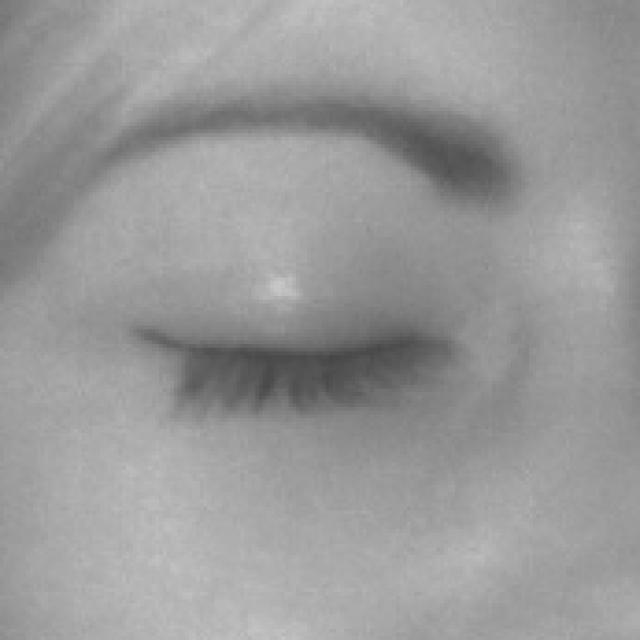Eyeclosed: (137, 217, 453, 520)
